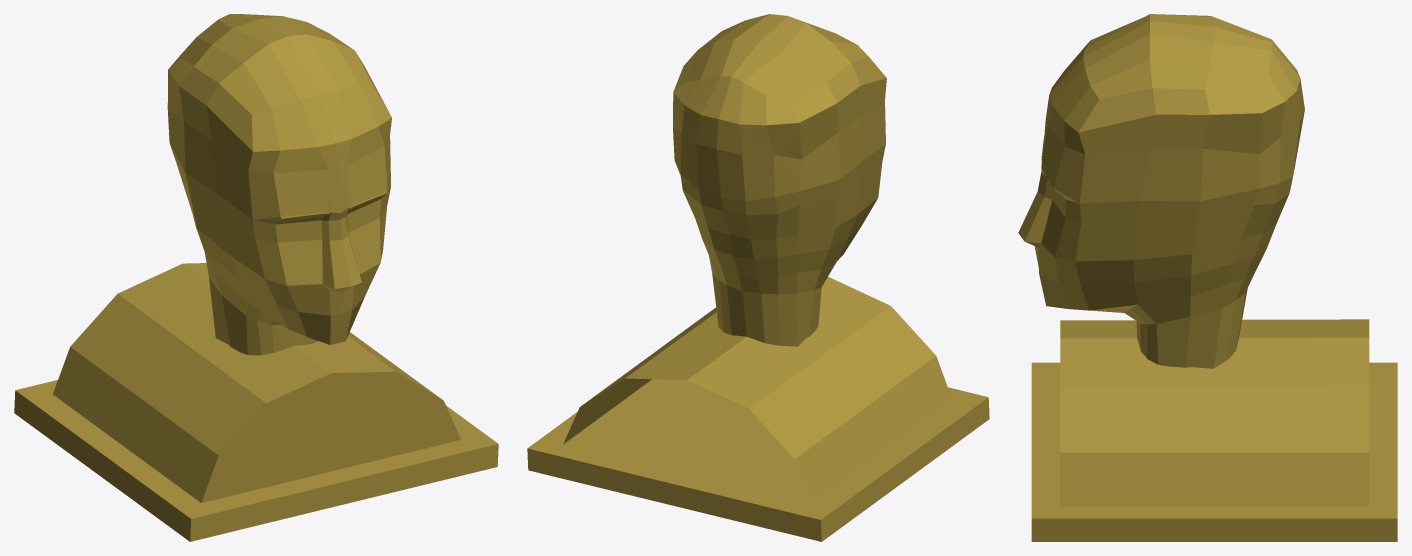
The model's file is AndyAward.glb.
3 renders of one model, left to right at view 1: azimuth 30°, elevation 25°; view 2: azimuth 150°, elevation 25°; view 3: azimuth 270°, elevation 25°, orthographic. The views are drawn at different scales.
Parts seen in each view (by area): view 1: AndyAward; view 2: AndyAward; view 3: AndyAward.
Part boxes in pixels (bbox=[...]): AndyAward: bbox=[14, 14, 498, 541]; AndyAward: bbox=[527, 14, 989, 541]; AndyAward: bbox=[1018, 14, 1397, 541].
Bounding box in the file's own units: 0.7877 × 1.04 × 0.8066.
